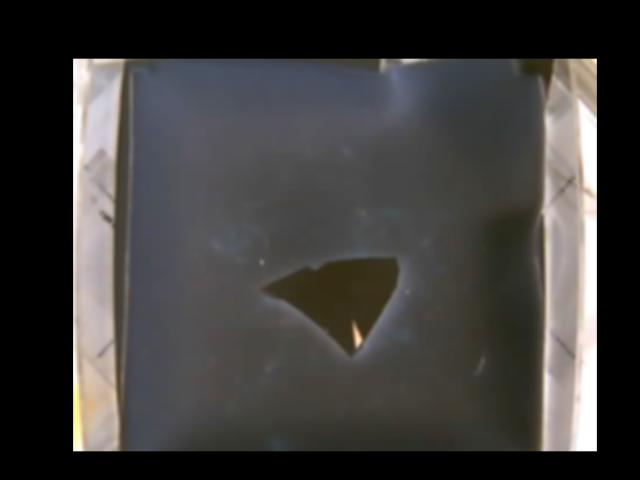China: (261, 255, 400, 353)
